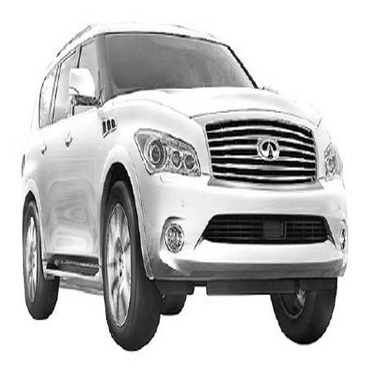car: (10, 16, 353, 354)
